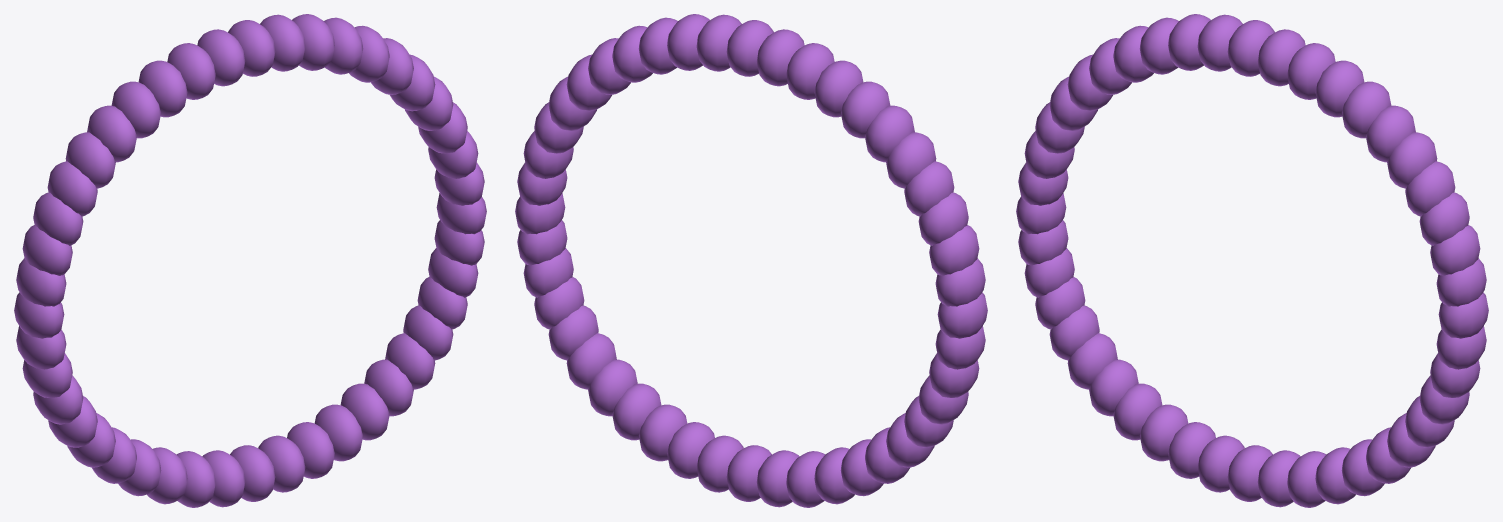
File: goal-failed.glb
3 views of the same model, side by side, from view 1: azimuth 30°, elevation 25°; view 2: azimuth 150°, elevation 25°; view 3: azimuth 330°, elevation 25° (orthographic).
Parts seen in each view (by area): view 1: goal-failed-15, goal-failed-16, goal-failed-14, goal-failed-17, goal-failed-13, goal-failed-18, goal-failed-12, goal-failed-36, goal-failed-37, goal-failed-35, goal-failed-38, goal-failed-19 (+32 smaller); view 2: goal-failed-15, goal-failed-16, goal-failed-14, goal-failed-17, goal-failed-13, goal-failed-18, goal-failed-12, goal-failed-36, goal-failed-37, goal-failed-35, goal-failed-38, goal-failed-19 (+32 smaller); view 3: goal-failed-7, goal-failed-6, goal-failed-8, goal-failed-5, goal-failed-9, goal-failed-4, goal-failed-10, goal-failed-30, goal-failed-29, goal-failed-31, goal-failed-28, goal-failed-3 (+32 smaller).
Part boxes in pixels (x1,y1,x2,y2): goal-failed-15: (111,81,160,138); goal-failed-16: (87,105,136,162); goal-failed-14: (138,60,187,117); goal-failed-17: (65,132,115,188); goal-failed-13: (167,43,215,99); goal-failed-18: (47,161,97,216); goal-failed-12: (197,29,245,86); goal-failed-36: (314,404,362,461); goal-failed-37: (340,383,389,440); goal-failed-35: (287,422,334,478); goal-failed-38: (364,359,413,416); goal-failed-19: (33,192,83,245); goal-failed-15: (841,81,890,138); goal-failed-16: (865,105,914,162); goal-failed-14: (814,60,863,117); goal-failed-17: (886,132,936,188); goal-failed-13: (786,43,834,99); goal-failed-18: (904,161,954,216); goal-failed-12: (756,29,804,86); goal-failed-36: (639,404,687,461); goal-failed-37: (612,383,661,440); goal-failed-35: (667,422,714,478); goal-failed-38: (588,359,637,416); goal-failed-19: (918,192,968,245); goal-failed-7: (1342,81,1391,138); goal-failed-6: (1366,105,1415,162); goal-failed-8: (1315,60,1364,117); goal-failed-5: (1387,132,1437,188); goal-failed-9: (1287,43,1335,99); goal-failed-4: (1405,161,1455,216); goal-failed-10: (1257,29,1305,86); goal-failed-30: (1140,404,1188,461); goal-failed-29: (1113,383,1162,440); goal-failed-31: (1168,422,1215,478); goal-failed-28: (1089,359,1138,416); goal-failed-3: (1419,192,1469,245).
Bounding box in the file's own units: 5.68 × 5.6 × 0.7.
